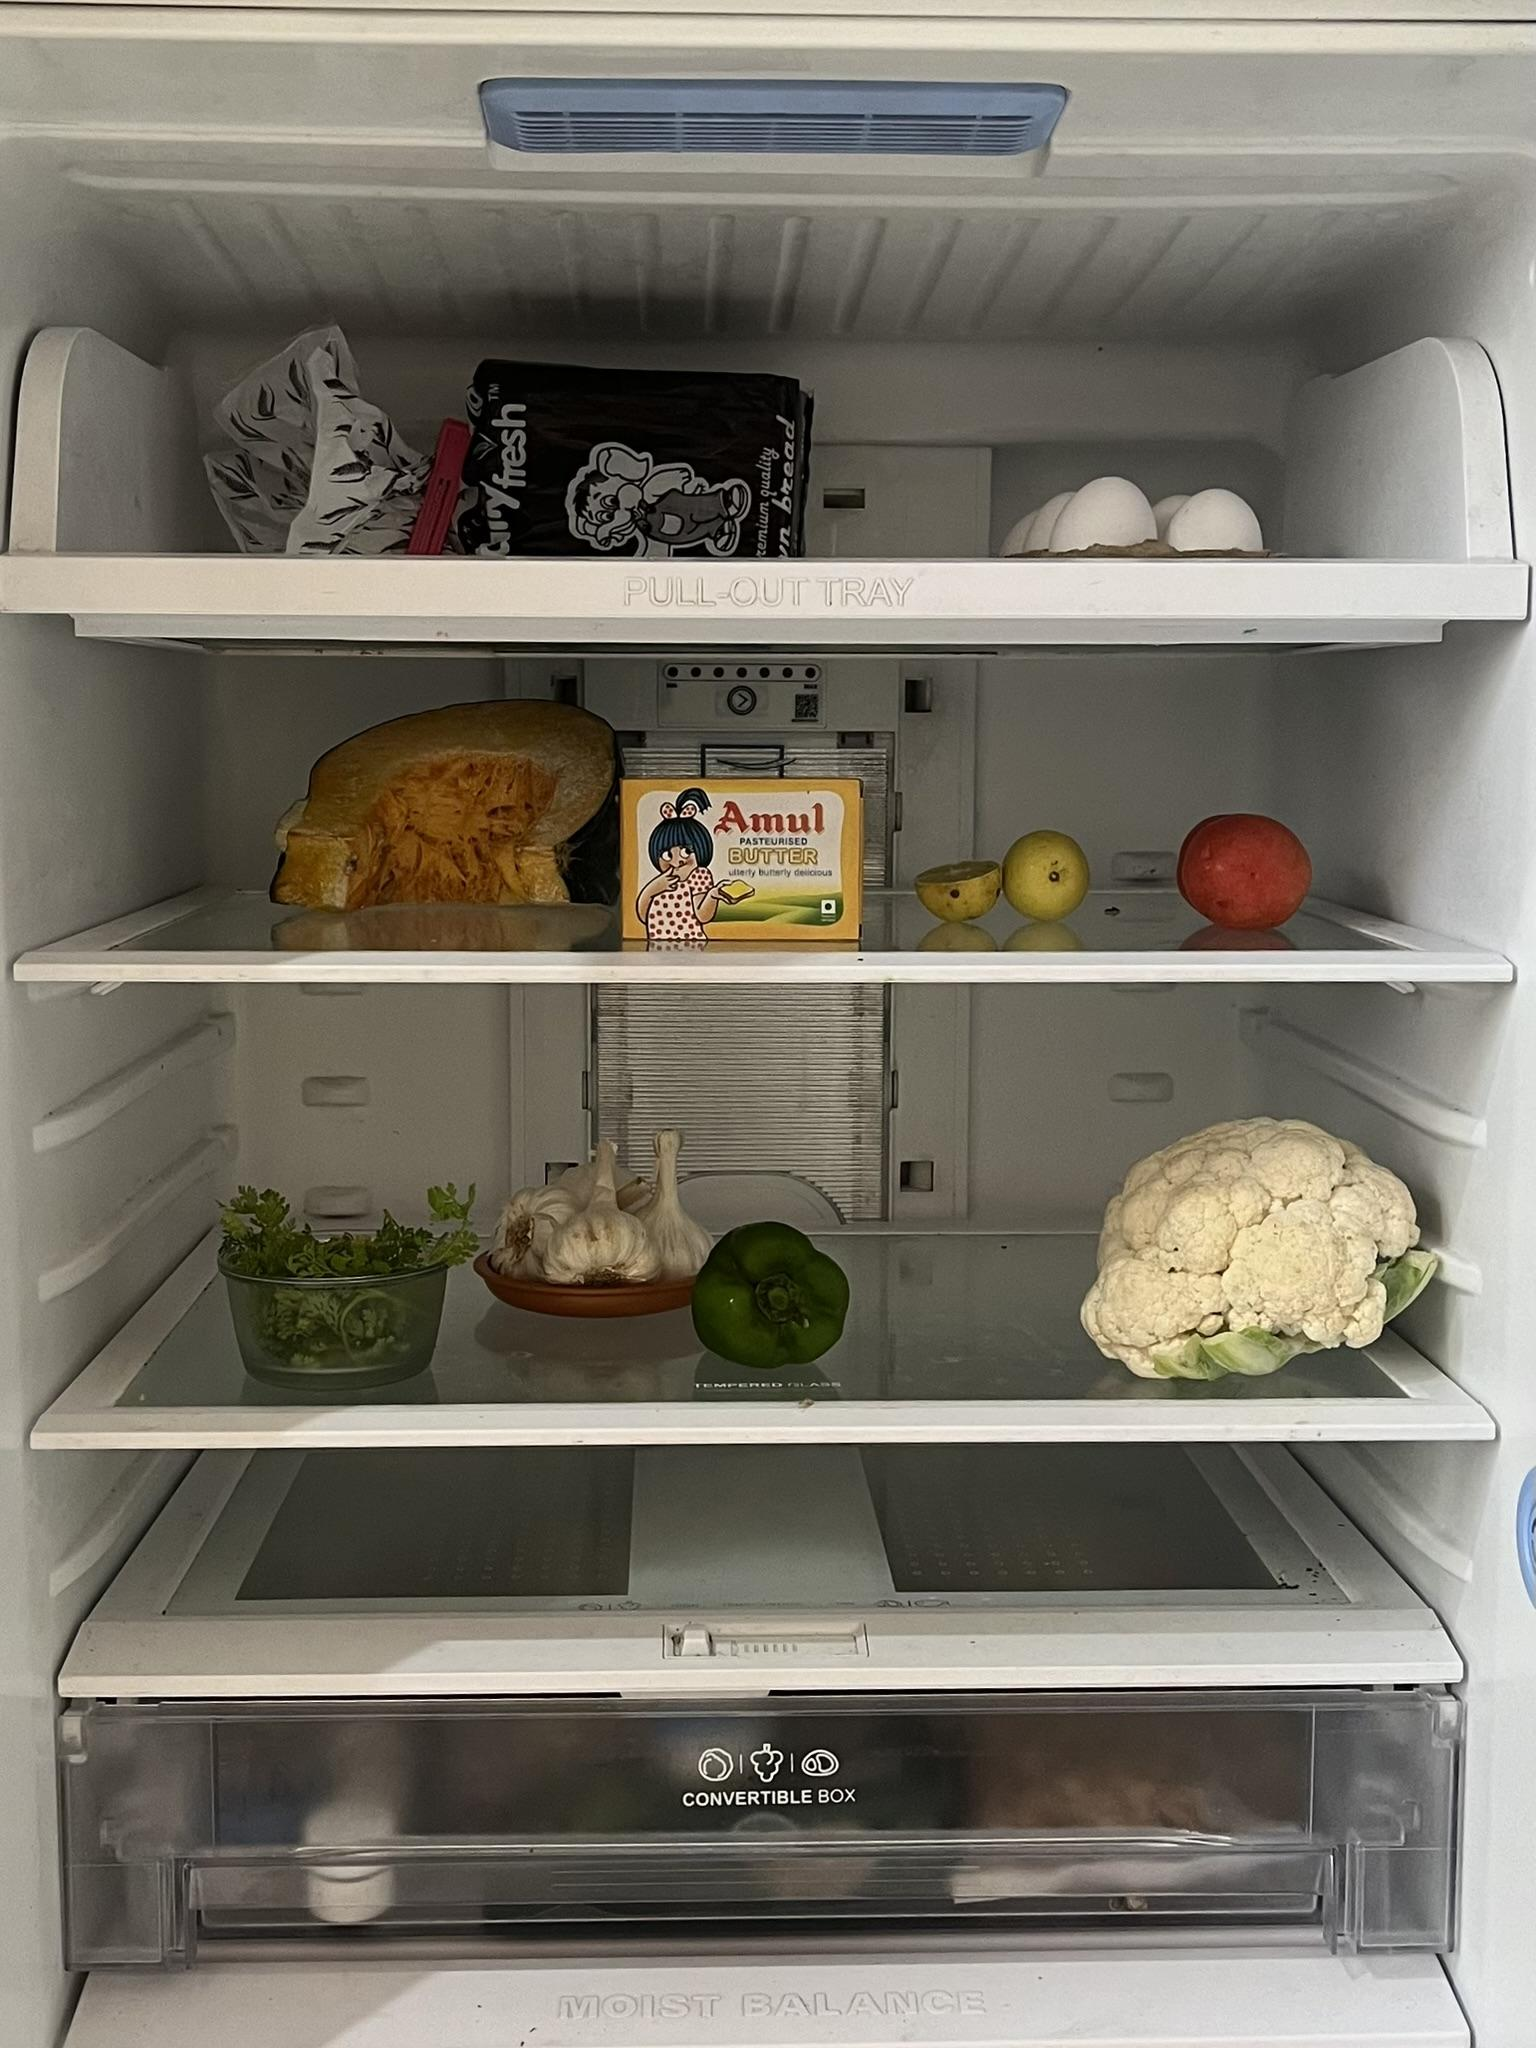bread: (237, 313, 813, 553)
butter: (620, 784, 866, 940)
capsicum: (694, 1227, 850, 1356)
cauliflower: (1091, 1124, 1413, 1380)
egg: (1004, 477, 1270, 553)
garlic: (490, 1124, 710, 1284)
lemon: (916, 827, 1097, 927)
pumpkin: (276, 697, 616, 900)
tomato: (223, 1177, 434, 1359), (1173, 816, 1317, 934)
